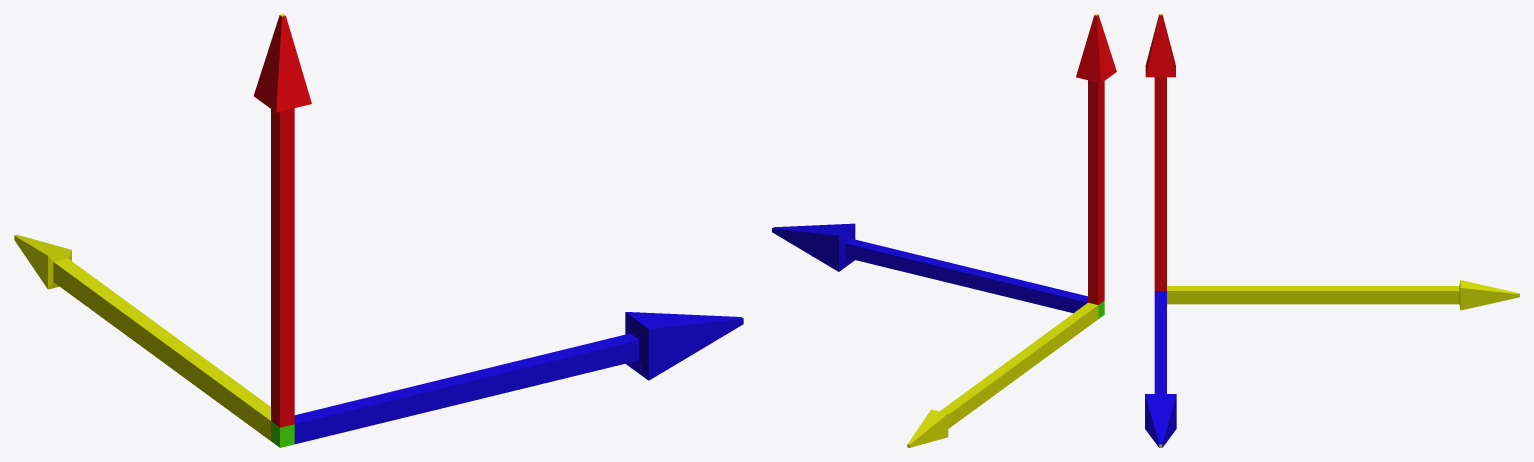
Rendered from šipky.glb.
3 views of the same model, side by side, from view 1: azimuth 30°, elevation 25°; view 2: azimuth 150°, elevation 25°; view 3: azimuth 270°, elevation 25° (orthographic). The views are drawn at different scales.
Parts seen in each view (by area): view 1: Cube; view 2: Cube; view 3: Cube.
Boxes of the visible parts, x1,y1,x2,y2 form: Cube: (14,14,743,447); Cube: (772,14,1116,447); Cube: (1145,14,1519,447).
Bounding box in the file's own units: 2.51 × 2.23 × 2.54.
